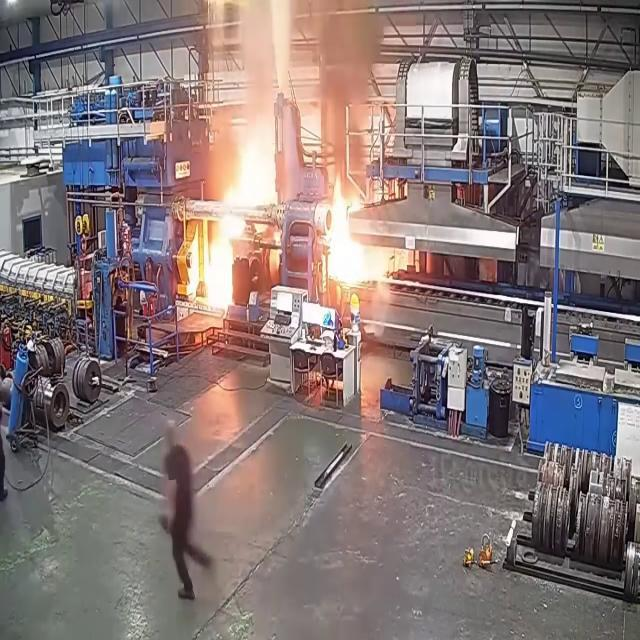Fire: (182, 110, 283, 314), (316, 166, 414, 297)
